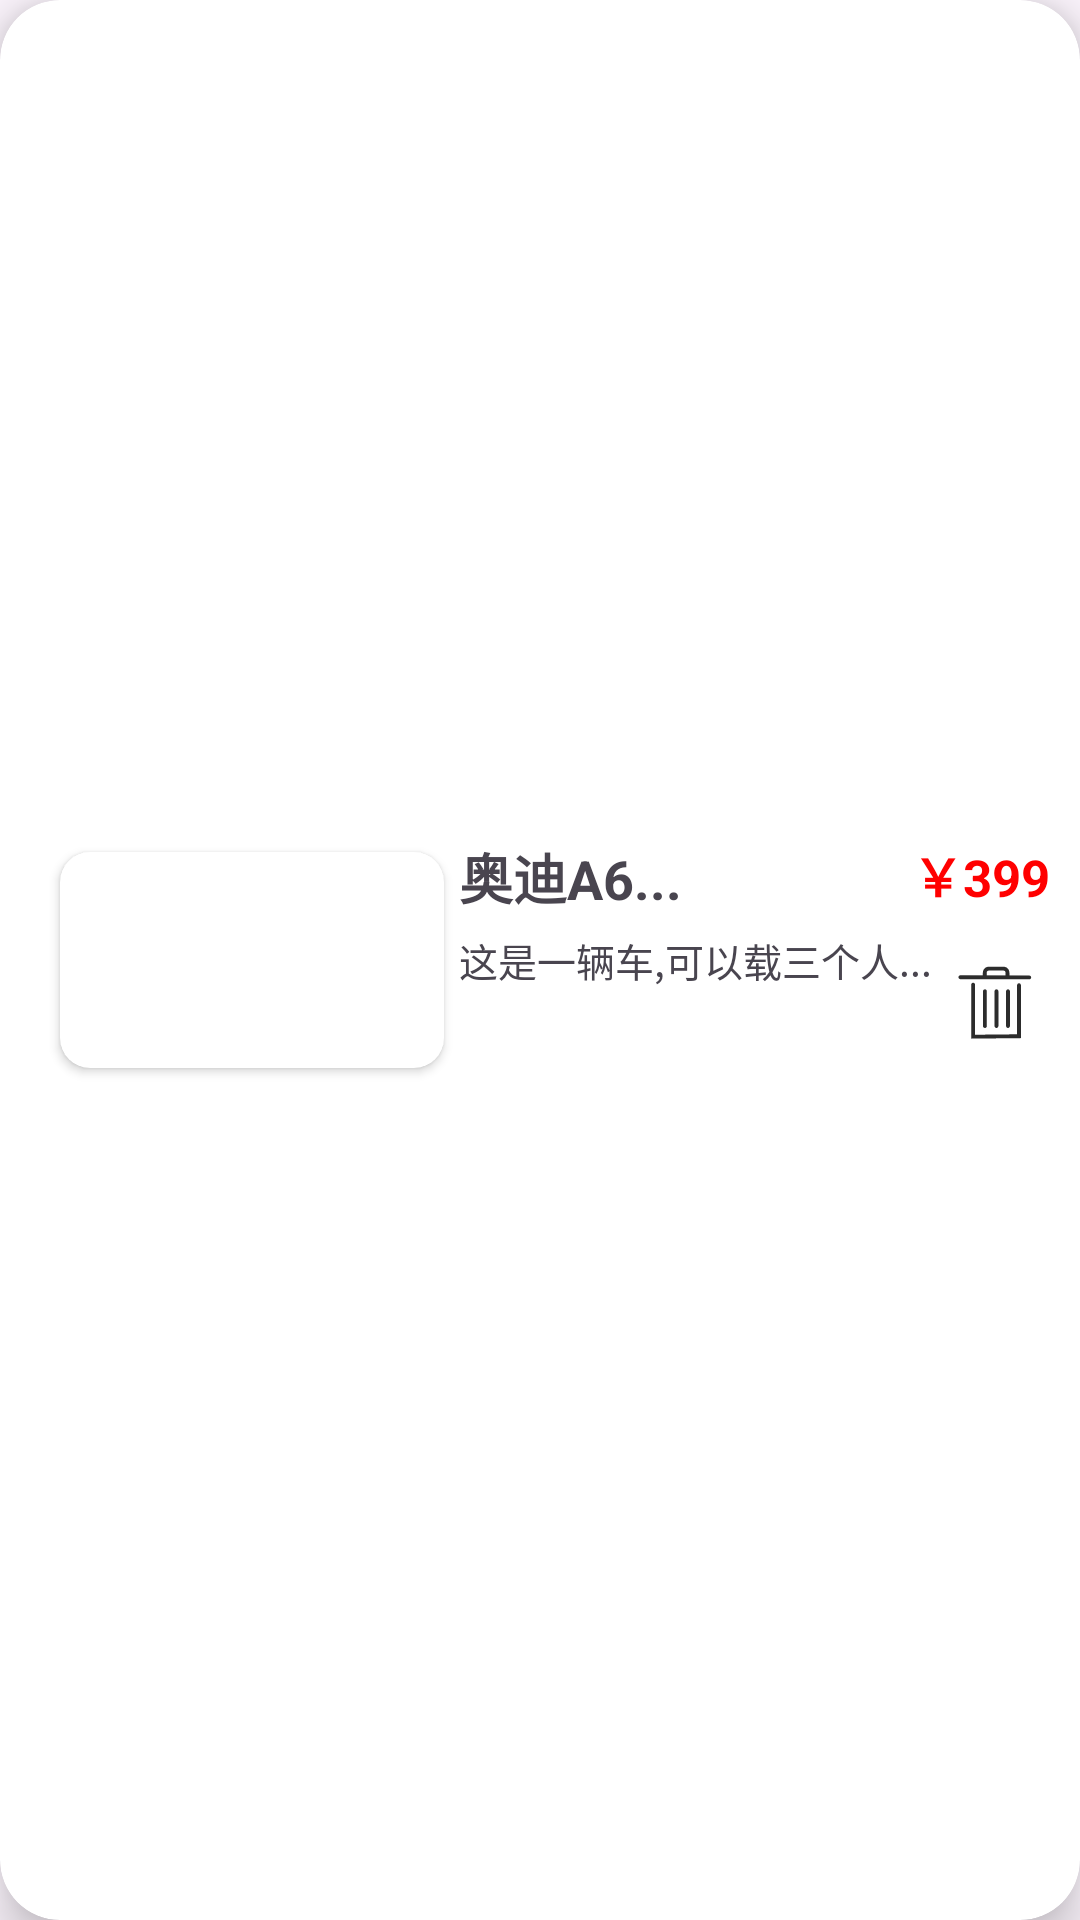

Where to tap for icons on this 1080×1920 app screen, as [x,y]:
delete: [994,1002]
